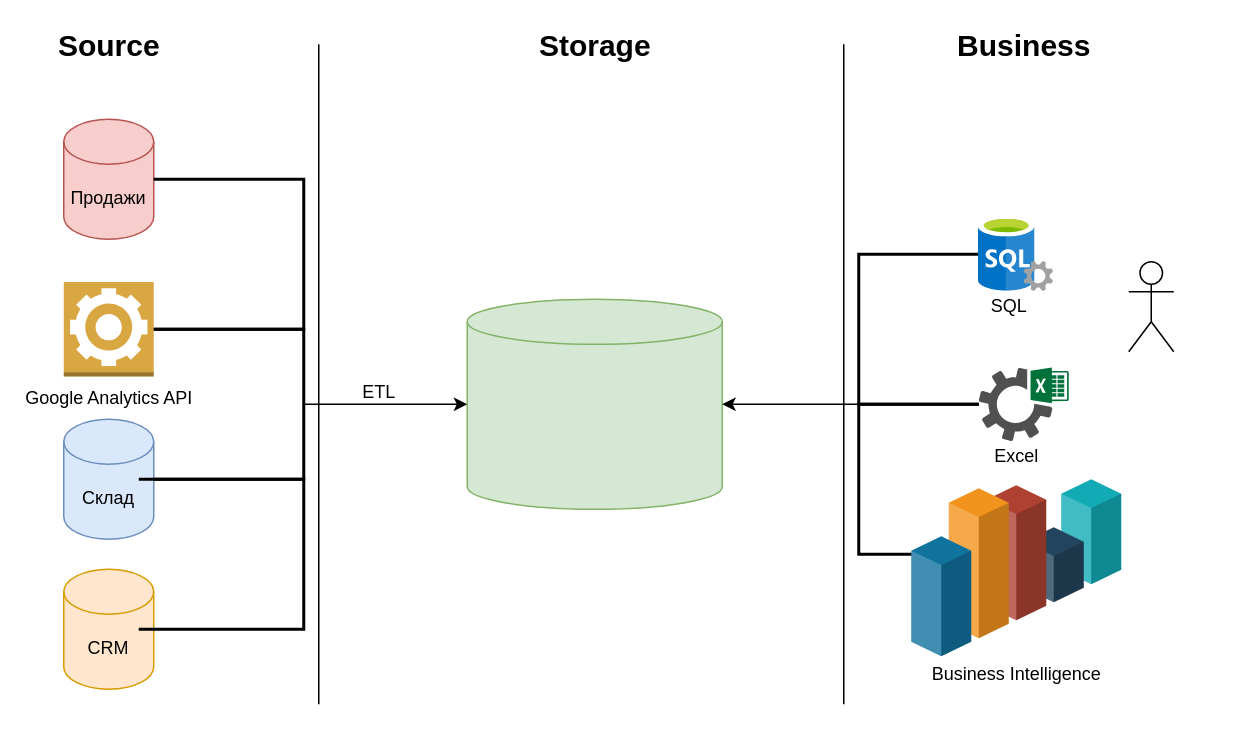
Some shapes in this 1236 by 732 pixel diagram are drawn without their labels. Each missing label, with the centre of its shape:
"Пользователь" goes at point (1150, 306).
"Хранилище данных" goes at point (594, 403).
